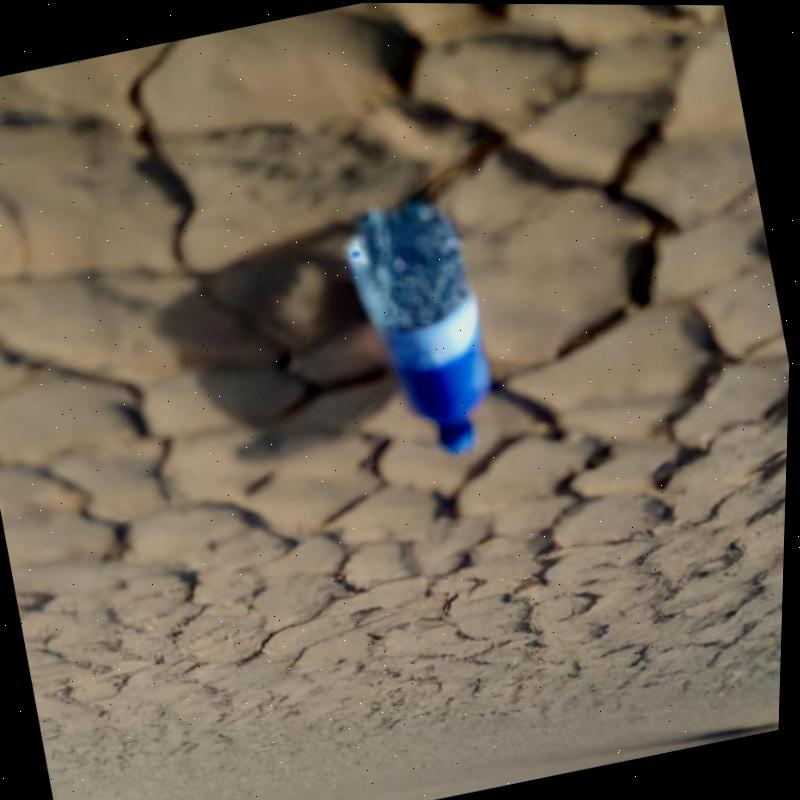botella: (333, 193, 513, 466)
